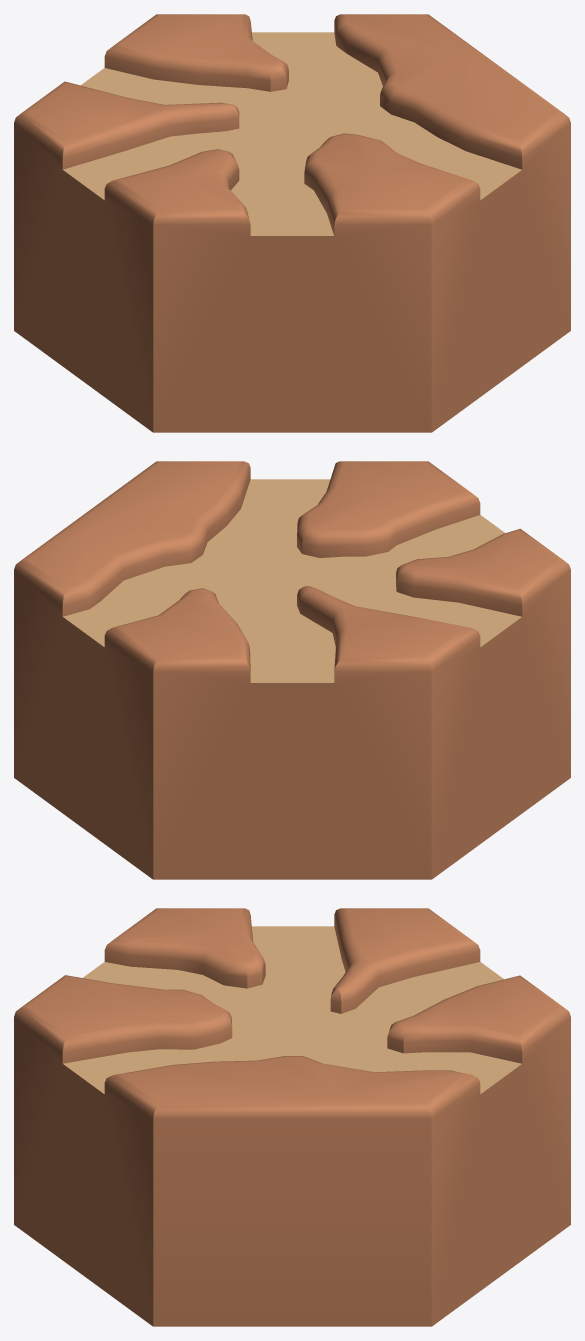
File: hex_rock_roadL.glb
3 renders of one model, top to bottom at view 1: azimuth 30°, elevation 25°; view 2: azimuth 150°, elevation 25°; view 3: azimuth 270°, elevation 25°, orthographic.
Visible parts, largest first — view 1: hex_rock_roadL; view 2: hex_rock_roadL; view 3: hex_rock_roadL.
Boxes of the visible parts, x1=… form: hex_rock_roadL: x1=14, y1=14, x2=570, y2=432; hex_rock_roadL: x1=14, y1=461, x2=570, y2=879; hex_rock_roadL: x1=14, y1=908, x2=570, y2=1326.
Size of the model in its own units: 3.82 by 1.91 by 4.41.
